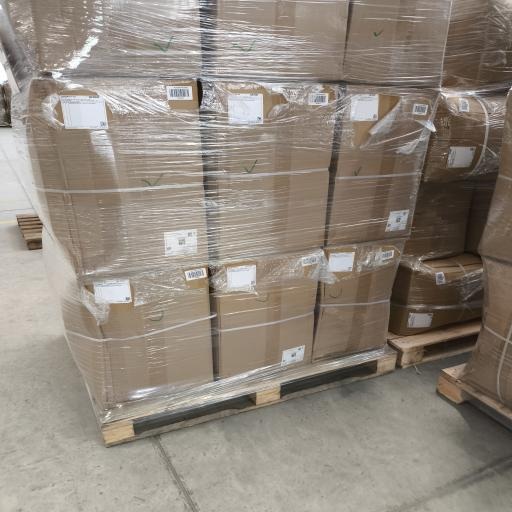pallet: (92, 346, 396, 446), (438, 364, 511, 429), (388, 319, 481, 368), (17, 214, 43, 250)
